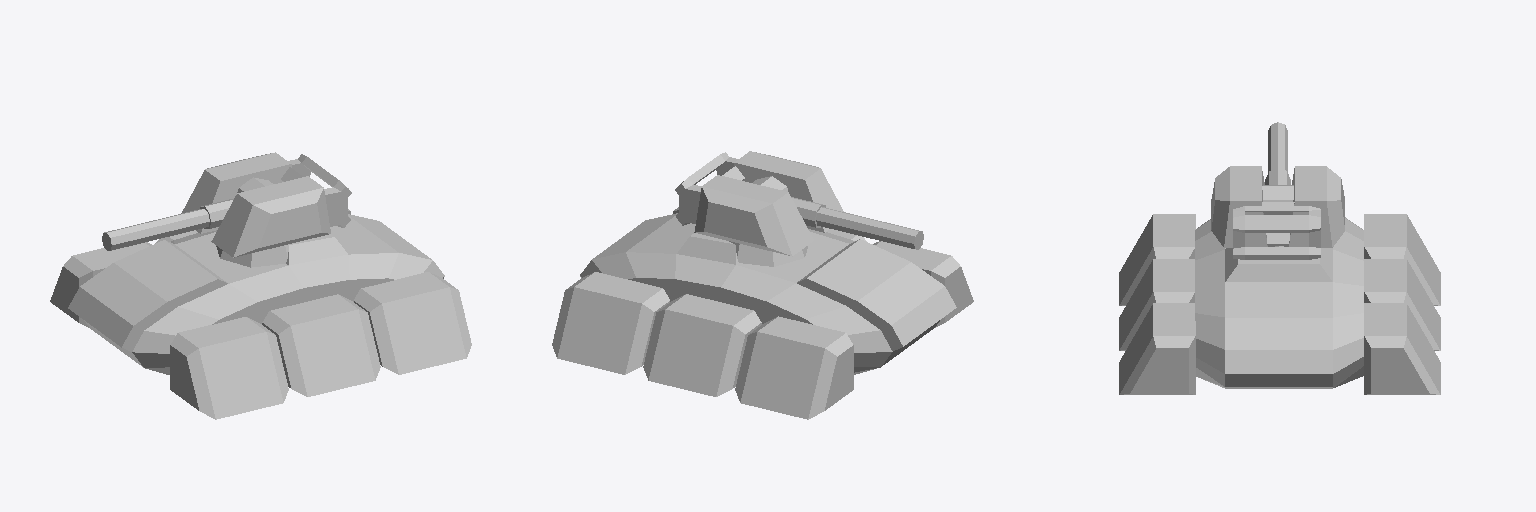
Rendered from Terra Lighttank.obj.
3 renders of one model, left to right at view 1: azimuth 30°, elevation 25°; view 2: azimuth 150°, elevation 25°; view 3: azimuth 270°, elevation 25°, orthographic.
Parts seen in each view (by area): view 1: cube1; view 2: cube1; view 3: cube1.
Boxes of the visible parts, x1,y1,x2,y2 form: cube1: [50, 152, 471, 419]; cube1: [552, 151, 973, 419]; cube1: [1119, 122, 1440, 394].
Size of the model in its own units: 6.95 by 3.13 by 5.98.